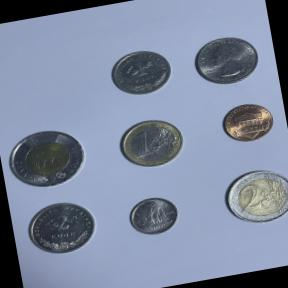coin: (0, 121, 93, 196), (20, 194, 102, 260), (186, 29, 268, 92), (217, 161, 288, 231), (112, 112, 190, 174), (122, 190, 185, 242), (215, 97, 279, 148)
